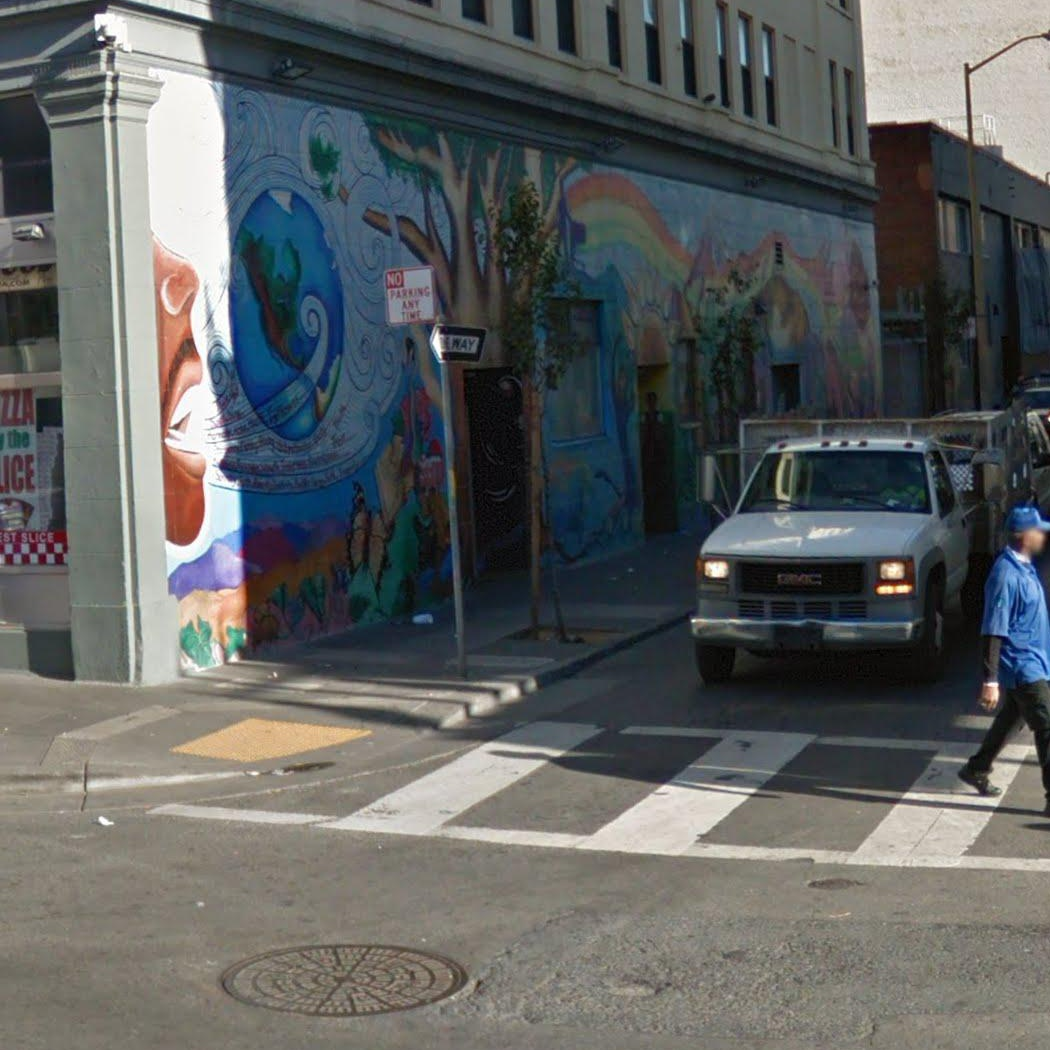No Parking Anytime: (381, 265, 437, 326)
